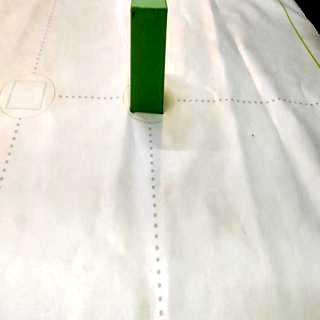greenbox: (130, 0, 168, 115)
